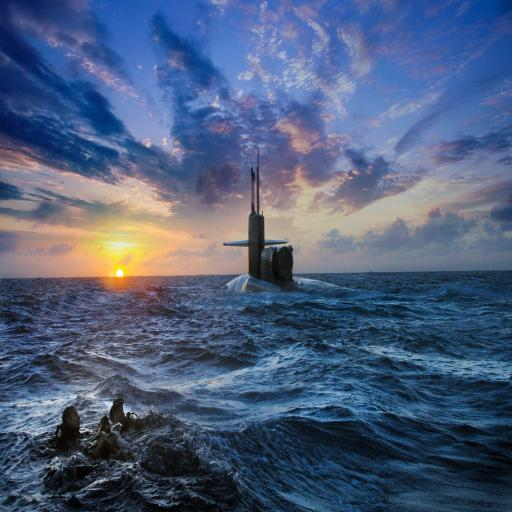submarine: (218, 144, 353, 300)
